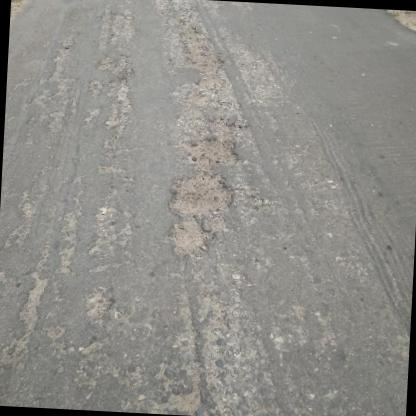pothole: (164, 168, 237, 218), (176, 24, 228, 92), (176, 134, 242, 170), (15, 268, 51, 332), (166, 214, 214, 260), (160, 384, 204, 414), (82, 287, 113, 321)
